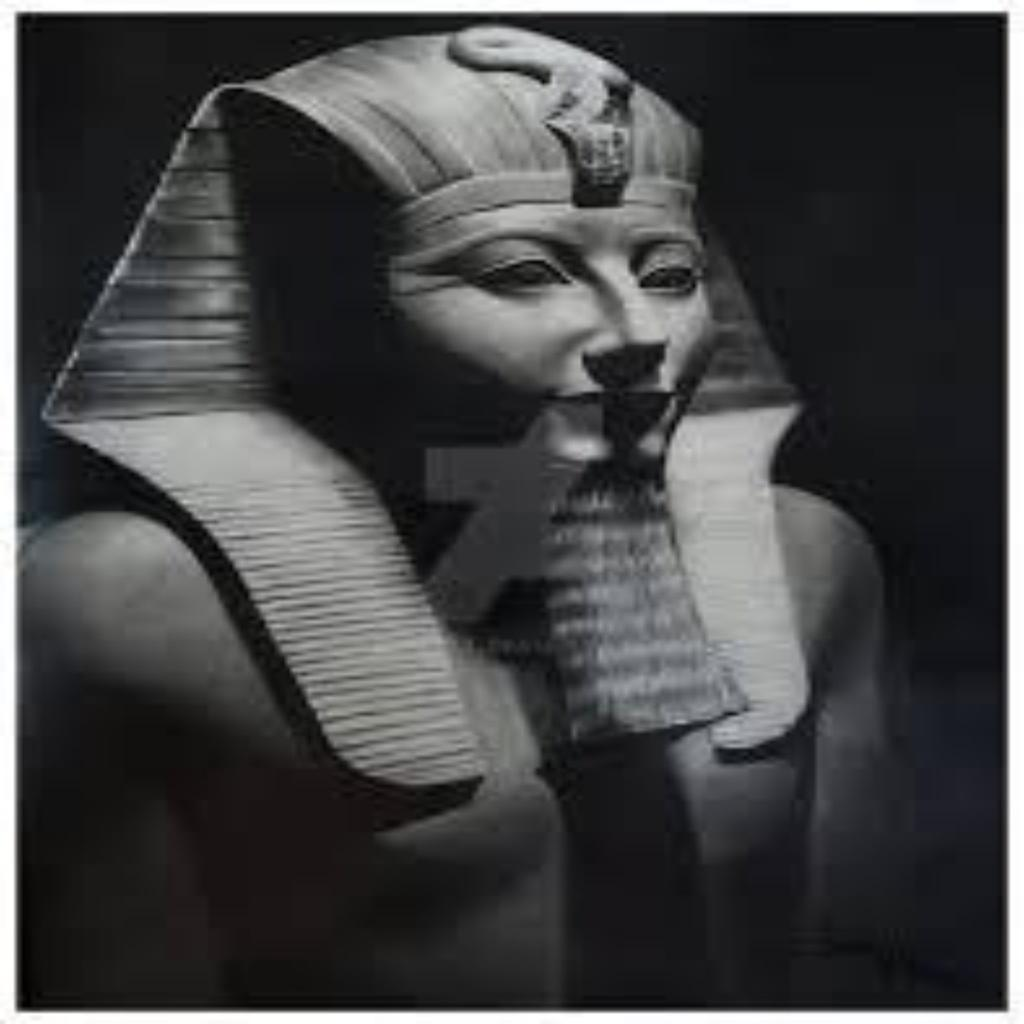King Thutmose III: (21, 24, 915, 1004)
